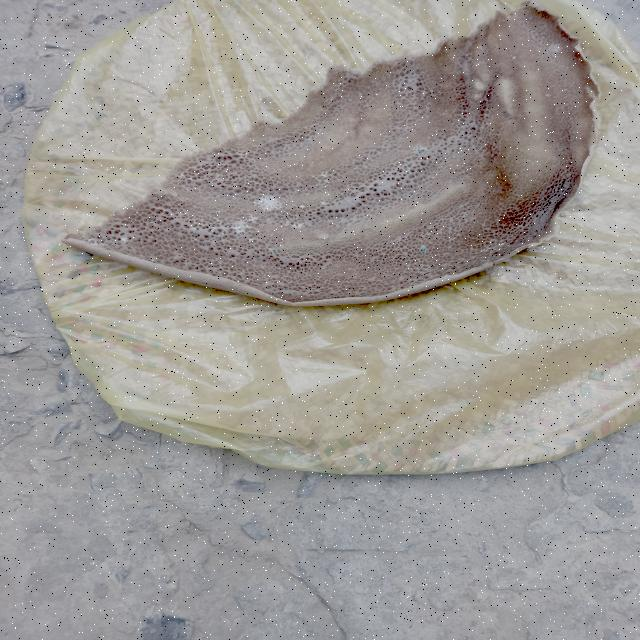injera_mold: (253, 194, 284, 213), (228, 219, 252, 236), (83, 238, 108, 252), (316, 170, 332, 185), (546, 42, 564, 55), (411, 145, 429, 155), (288, 220, 304, 231), (416, 244, 428, 254), (118, 235, 130, 244)
